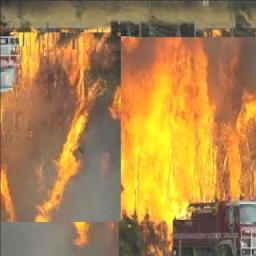Large fire: (125, 31, 256, 238), (5, 26, 111, 216)
